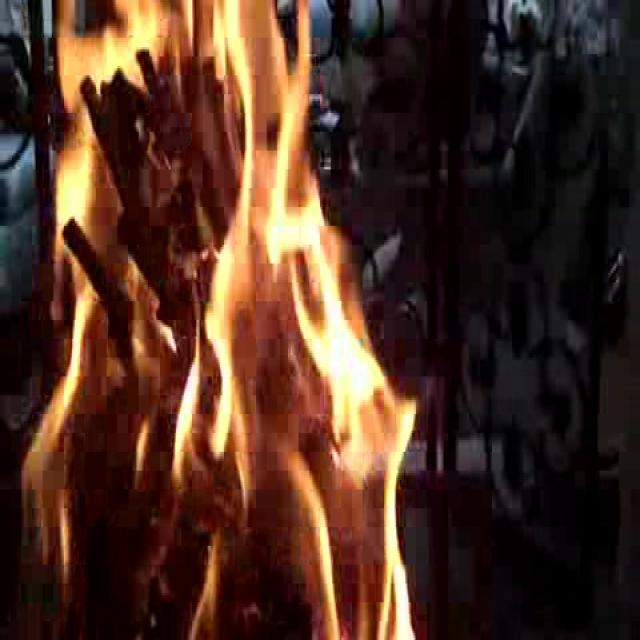fire: (58, 68, 381, 634)
